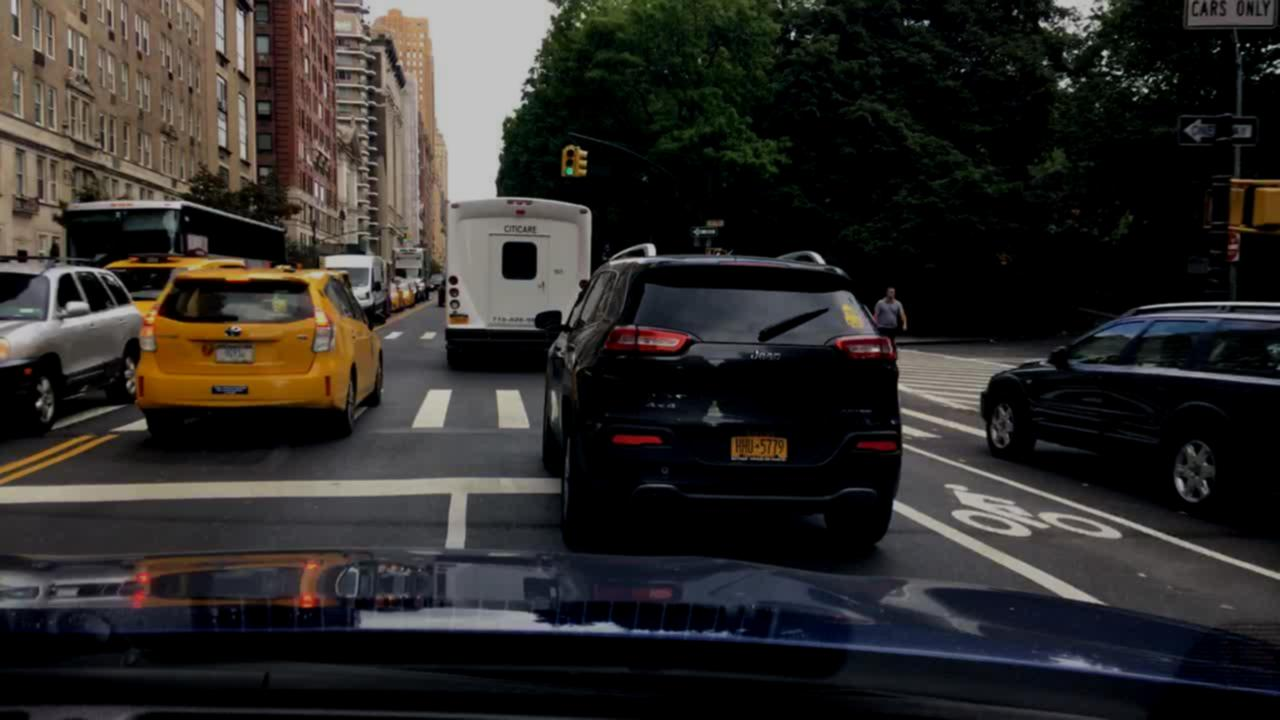Toyota: (220, 321, 247, 343)
jeep: (745, 348, 786, 366)
